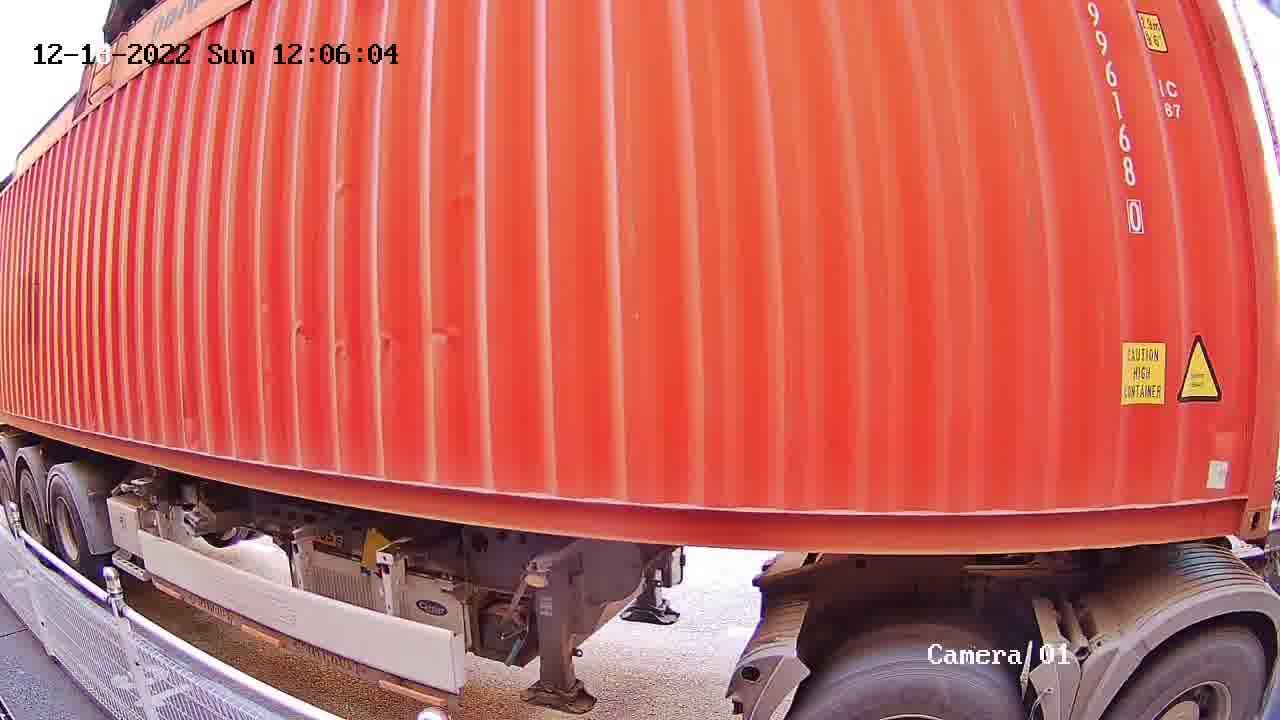Hole_L: (1199, 461, 1276, 538)
Tire: (1110, 630, 1268, 718), (802, 659, 1021, 717)
